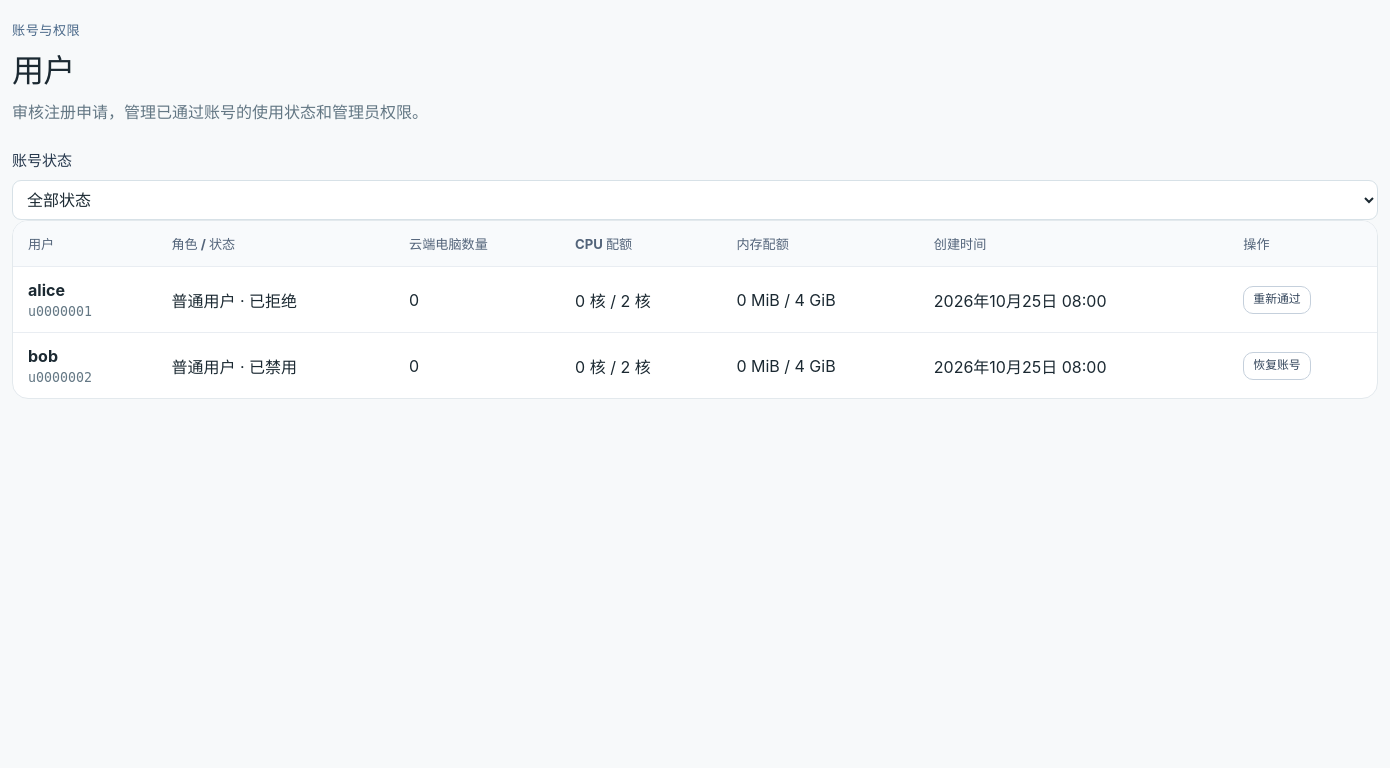
Scenario: admin account management › reapproves rejected accounts and restores disabled accounts
This screenshot has width=1390, height=768.
Click the button "重新通过": (1277, 300) [1243,286,1311,314]
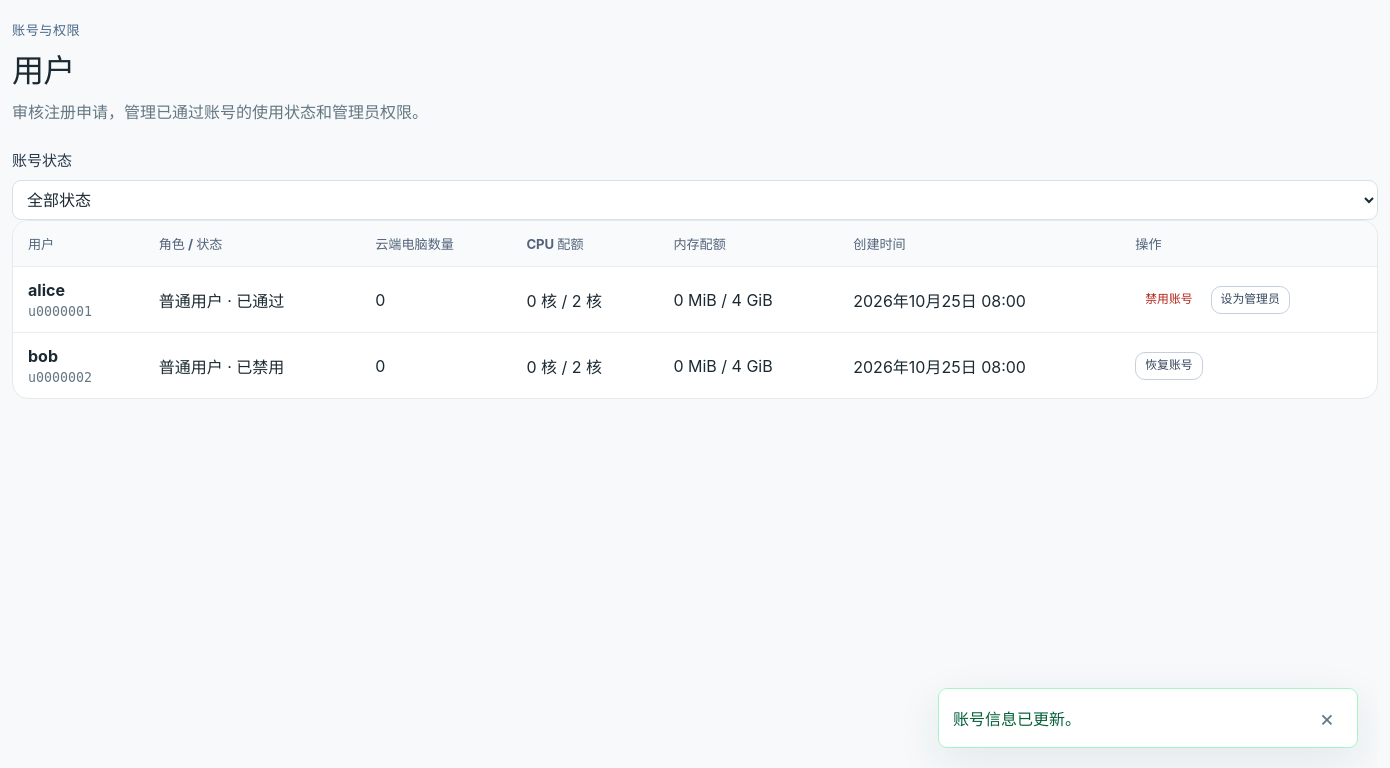
Click the button "恢复账号": (1169, 366) [1135,352,1203,380]
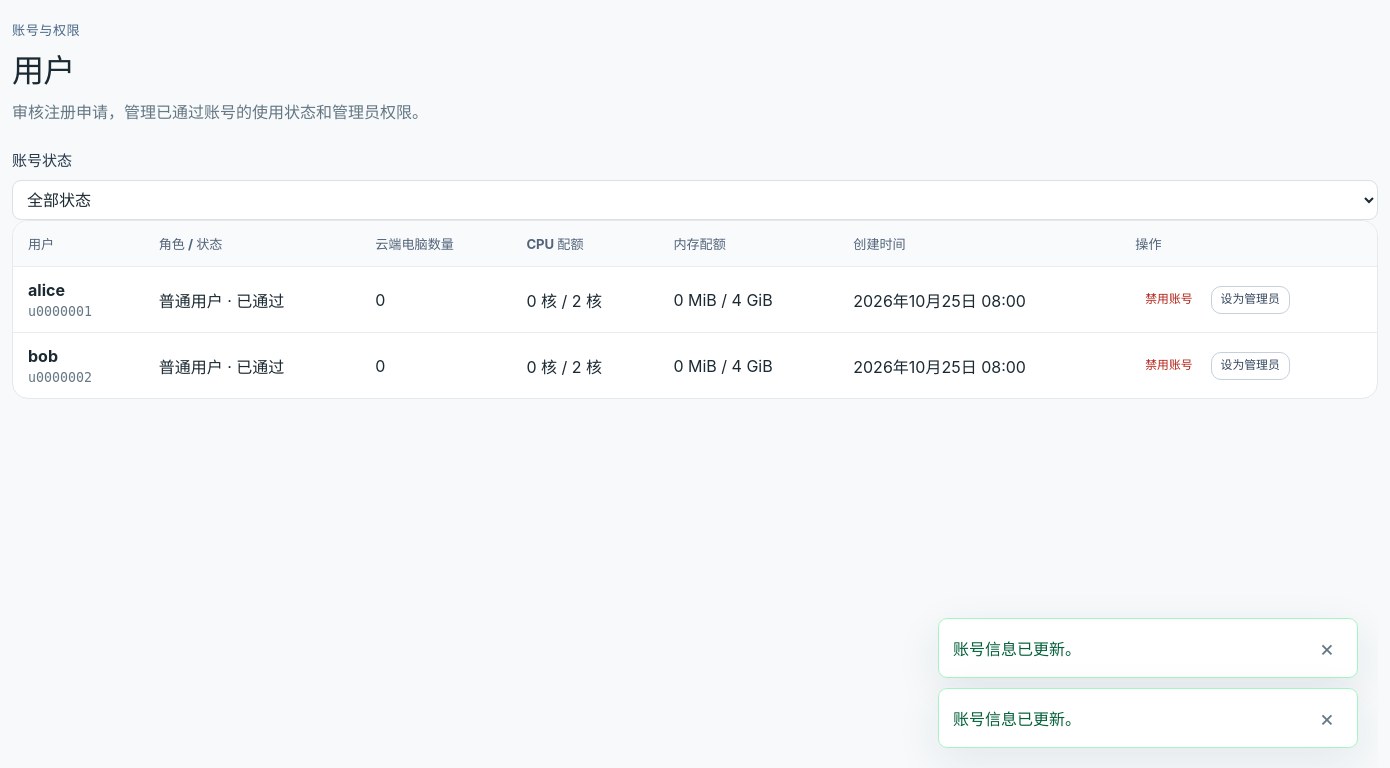
Expected: the row that starts with "bob" is shown, [13,332,1377,398]
